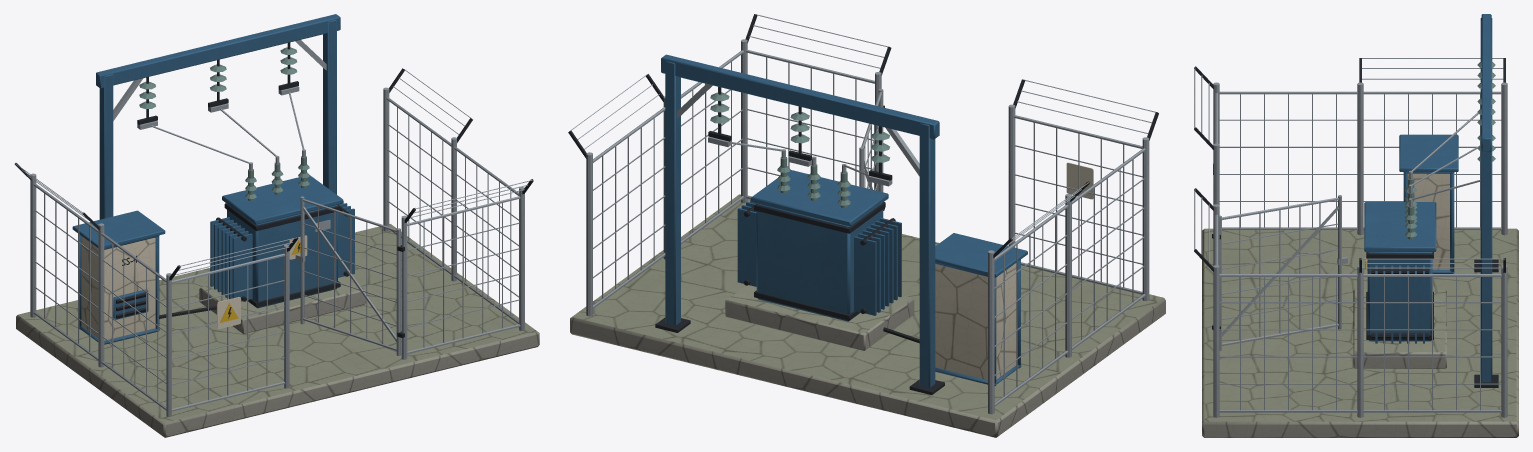
Rendered from substation_fence.glb.
3 views of the same model, side by side, from view 1: azimuth 30°, elevation 25°; view 2: azimuth 150°, elevation 25°; view 3: azimuth 270°, elevation 25° (orthographic). The views are drawn at different scales.
Parts seen in each view (by area): view 1: substation_fence; view 2: substation_fence; view 3: substation_fence.
Boxes of the visible parts, x1,y1,x2,y2 form: substation_fence: [14, 14, 539, 437]; substation_fence: [568, 14, 1165, 437]; substation_fence: [1194, 14, 1518, 437].
Size of the model in its own units: 6.63 by 4.07 by 4.51.
Materials: 16 (16 with a texture image).
